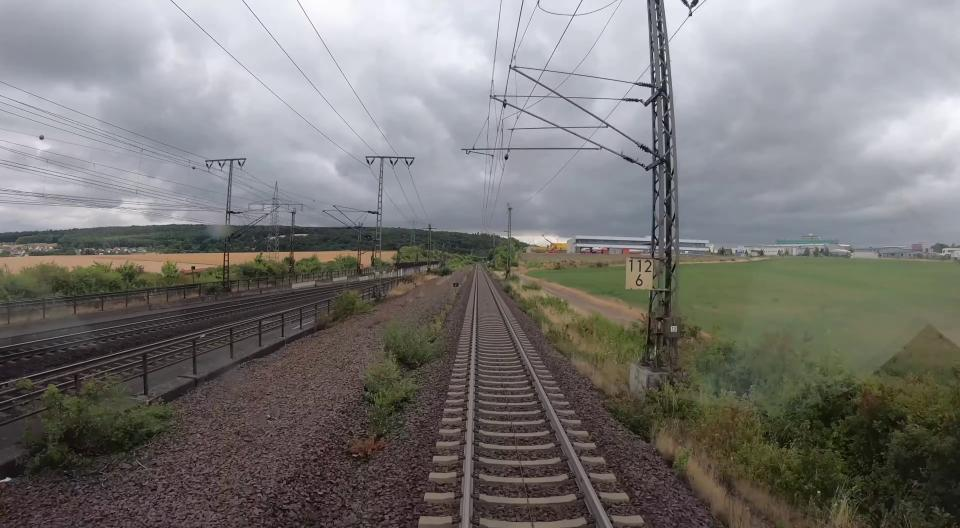Plant: (604, 397, 774, 528), (503, 276, 630, 396), (24, 379, 172, 469), (351, 352, 418, 457), (382, 304, 452, 369), (332, 290, 373, 321)
